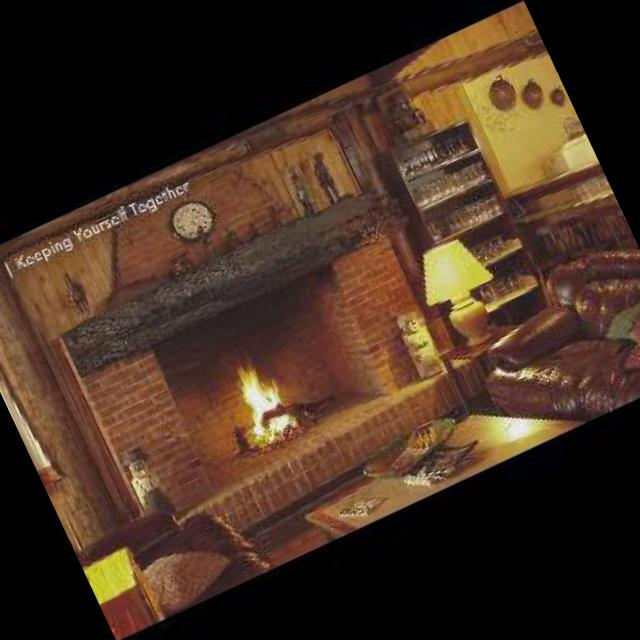fire: (218, 344, 306, 452)
